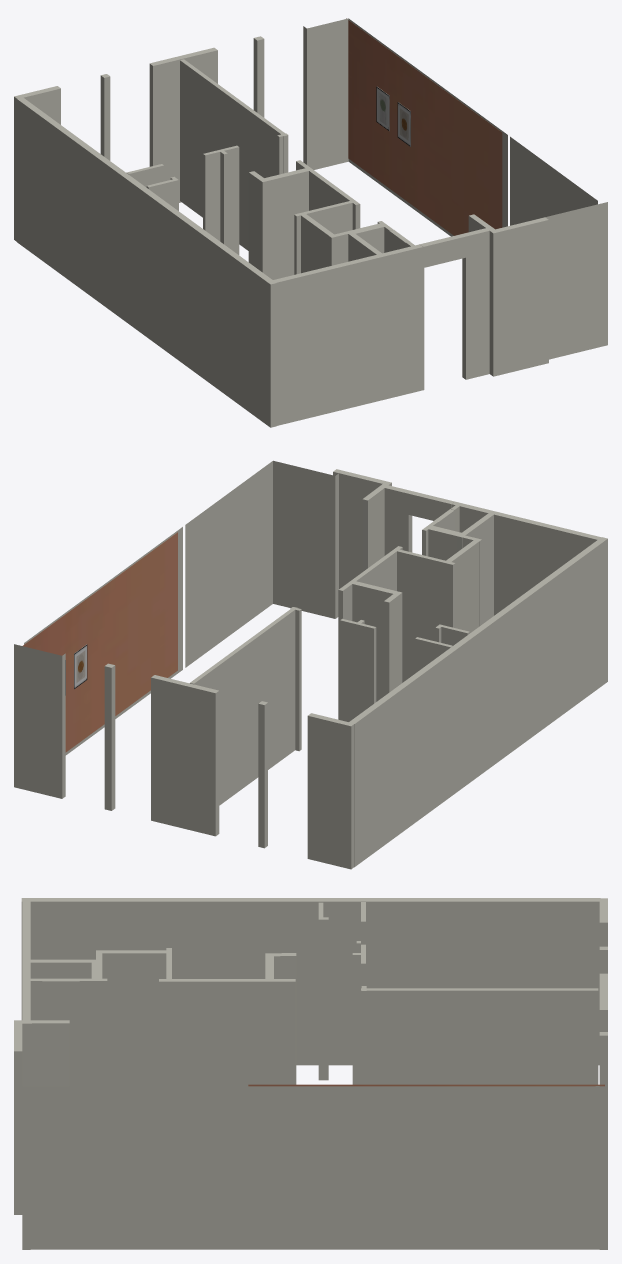
File: floorplan-new25000.glb
The picture shows the model from 3 angles, top to bottom: view 1: azimuth 30°, elevation 25°; view 2: azimuth 150°, elevation 25°; view 3: azimuth 270°, elevation 25°; orthographic projection. The views are drawn at different scales.
Visible parts, largest first — view 1: Box009, Box1860; view 2: Box009, Box1860; view 3: Box009, Box1860.
Boxes of the visible parts, x1,y1,x2,y2 form: Box009: (14,18,607,427); Box1860: (346,18,502,235); Box009: (14,460,607,869); Box1860: (23,532,177,752); Box009: (14,898,607,1249); Box1860: (248,1084,604,1086).
Size of the model in its own units: 36.98 by 14.99 by 49.33.
4 materials, 4 textured.
